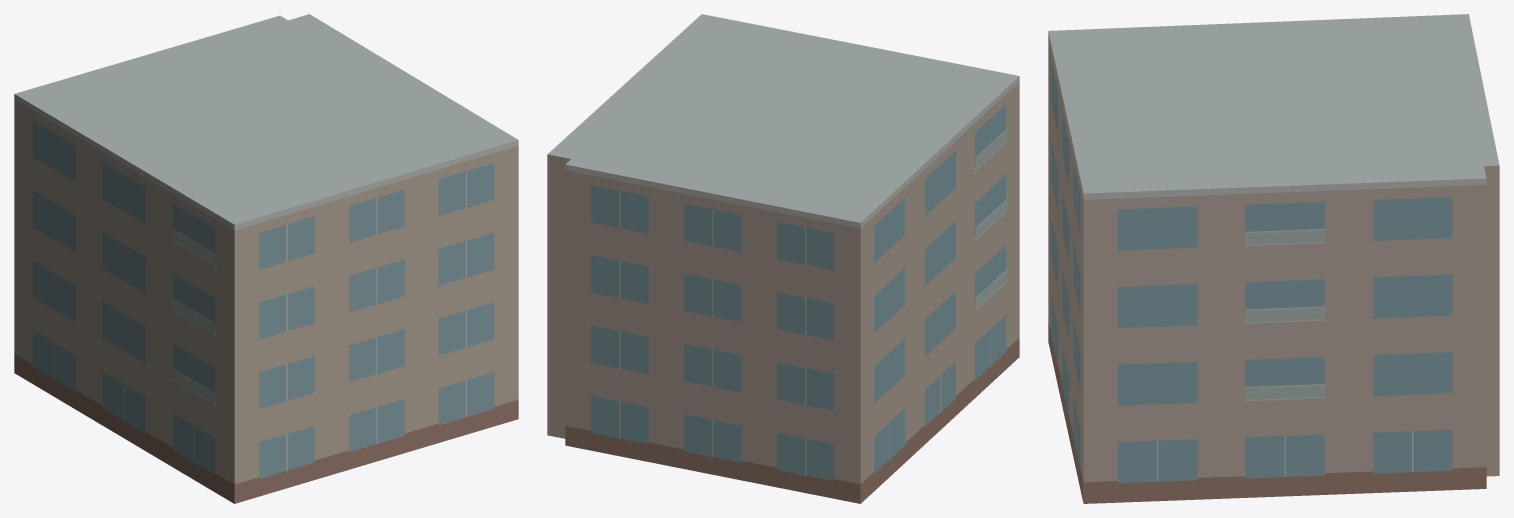
File: survey-upis-32992319.glb
3 renders of one model, left to right at view 1: azimuth 30°, elevation 25°; view 2: azimuth 150°, elevation 25°; view 3: azimuth 270°, elevation 25°, orthographic. The views are drawn at different scales.
Parts seen in each view (by area): view 1: survey-upis-32992319.tmp; view 2: survey-upis-32992319.tmp; view 3: survey-upis-32992319.tmp.
Boxes of the visible parts, x1,y1,x2,y2 form: survey-upis-32992319.tmp: [14, 14, 518, 503]; survey-upis-32992319.tmp: [547, 14, 1019, 503]; survey-upis-32992319.tmp: [1048, 14, 1499, 503].
Bounding box in the file's own units: 14.65 × 11.8 × 15.56.
